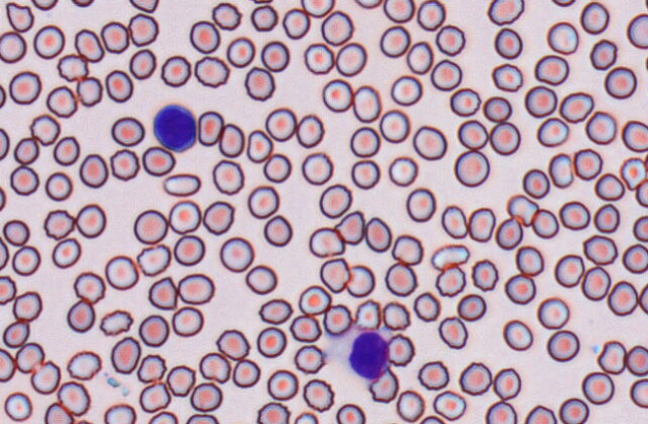LYM: (153, 104, 199, 152)
MONO: (331, 323, 397, 380)
RBC: (453, 149, 489, 187), (219, 236, 254, 272), (104, 254, 139, 290), (133, 209, 168, 244), (412, 125, 447, 160), (56, 380, 90, 416), (318, 183, 352, 218), (110, 336, 141, 374), (458, 361, 492, 395), (384, 261, 417, 296), (136, 243, 171, 276), (320, 10, 353, 45), (212, 159, 244, 195), (308, 226, 344, 258), (177, 273, 214, 304), (8, 70, 41, 104), (168, 200, 201, 234), (215, 328, 250, 360), (202, 200, 234, 235), (194, 55, 229, 87), (33, 24, 65, 59), (559, 91, 594, 123), (607, 280, 638, 316), (352, 84, 381, 122), (581, 371, 614, 404), (604, 66, 637, 99), (301, 151, 333, 185), (302, 378, 334, 412), (585, 110, 616, 145), (244, 66, 275, 101), (75, 203, 106, 238), (582, 234, 617, 265), (534, 54, 569, 85), (66, 350, 102, 380), (546, 329, 579, 361), (247, 185, 279, 218), (73, 271, 105, 304), (524, 85, 557, 117), (430, 58, 462, 91), (537, 296, 569, 329), (546, 21, 578, 54), (489, 121, 520, 155), (141, 145, 175, 176), (322, 78, 353, 112), (265, 107, 296, 141), (335, 42, 366, 76), (405, 187, 435, 222), (581, 265, 610, 301), (173, 234, 205, 266), (138, 381, 171, 412), (165, 364, 196, 397), (298, 284, 331, 315), (379, 24, 410, 57), (138, 314, 169, 347), (189, 381, 222, 412), (189, 20, 220, 53), (46, 85, 77, 118), (127, 13, 158, 46), (432, 390, 466, 420), (30, 360, 60, 394), (554, 253, 584, 287), (379, 109, 409, 143), (74, 28, 104, 62), (110, 116, 144, 146), (295, 113, 324, 148), (79, 153, 108, 188), (435, 265, 466, 297), (171, 306, 203, 337), (504, 273, 536, 304), (502, 319, 533, 351), (29, 113, 60, 145), (391, 234, 423, 265), (390, 74, 422, 105), (266, 369, 298, 400), (303, 42, 334, 74), (160, 55, 191, 87), (395, 389, 425, 422), (438, 316, 468, 349), (536, 117, 569, 147), (66, 298, 95, 332), (597, 340, 626, 374), (467, 207, 495, 242), (364, 216, 391, 252), (349, 126, 380, 157), (457, 119, 488, 150), (245, 264, 277, 294), (322, 303, 352, 335), (43, 209, 75, 239), (417, 360, 449, 390), (293, 344, 325, 374), (109, 148, 139, 180), (558, 200, 590, 230), (435, 24, 465, 56), (491, 62, 523, 92), (492, 367, 521, 400), (148, 276, 177, 309), (104, 69, 133, 102), (100, 20, 129, 53), (580, 1, 609, 34), (197, 110, 223, 146), (548, 152, 574, 188), (51, 237, 81, 268), (388, 155, 418, 186), (256, 326, 286, 357), (12, 290, 42, 321), (263, 214, 292, 246), (56, 53, 88, 82), (573, 148, 602, 180), (260, 40, 289, 72), (487, 0, 524, 25), (386, 333, 414, 366), (495, 216, 523, 249), (99, 309, 133, 336), (440, 204, 467, 238), (246, 129, 273, 163), (406, 40, 433, 74), (162, 172, 200, 196), (9, 165, 39, 195), (136, 353, 166, 383), (350, 159, 380, 189), (15, 342, 44, 373), (515, 245, 544, 276), (594, 172, 625, 201), (449, 87, 480, 116), (226, 36, 255, 67), (416, 0, 445, 31), (289, 314, 321, 342), (282, 7, 310, 39), (494, 27, 522, 59), (589, 38, 617, 70), (471, 258, 498, 291), (258, 298, 292, 324), (218, 123, 244, 157), (262, 153, 291, 183), (11, 245, 40, 275), (522, 168, 550, 199), (0, 30, 26, 63), (621, 119, 647, 152), (232, 358, 260, 388), (531, 208, 559, 238), (456, 293, 486, 321), (4, 391, 32, 421), (211, 2, 241, 30), (354, 299, 381, 330), (129, 48, 156, 79), (382, 301, 410, 330), (45, 171, 72, 201), (413, 291, 440, 321), (593, 203, 620, 233), (482, 95, 512, 122), (53, 135, 79, 166), (76, 76, 102, 107), (558, 397, 589, 423), (2, 320, 29, 348), (2, 218, 29, 246), (250, 4, 278, 31), (626, 13, 647, 49), (622, 243, 647, 273), (256, 401, 290, 423), (485, 400, 517, 423), (13, 136, 39, 164), (383, 0, 414, 23), (625, 345, 647, 376), (103, 403, 136, 423), (44, 401, 73, 423), (524, 404, 557, 423), (335, 403, 365, 423), (300, 0, 334, 17), (0, 348, 16, 382), (629, 378, 647, 408), (0, 275, 16, 305), (632, 215, 647, 242), (147, 410, 178, 423), (129, 0, 159, 13), (635, 178, 647, 207), (185, 413, 219, 423), (293, 411, 318, 423), (0, 237, 9, 270), (0, 127, 9, 160), (638, 282, 647, 314), (31, 0, 58, 10), (354, 0, 382, 9), (419, 414, 445, 423), (551, 0, 575, 7), (71, 0, 94, 7), (0, 83, 6, 108), (0, 186, 6, 211), (643, 151, 648, 172), (73, 419, 93, 424), (250, 0, 273, 4), (645, 54, 648, 71)
Schistocyte: (365, 368, 399, 404), (319, 257, 350, 294), (336, 211, 366, 246), (346, 265, 375, 298), (5, 2, 35, 33), (621, 157, 645, 191)
